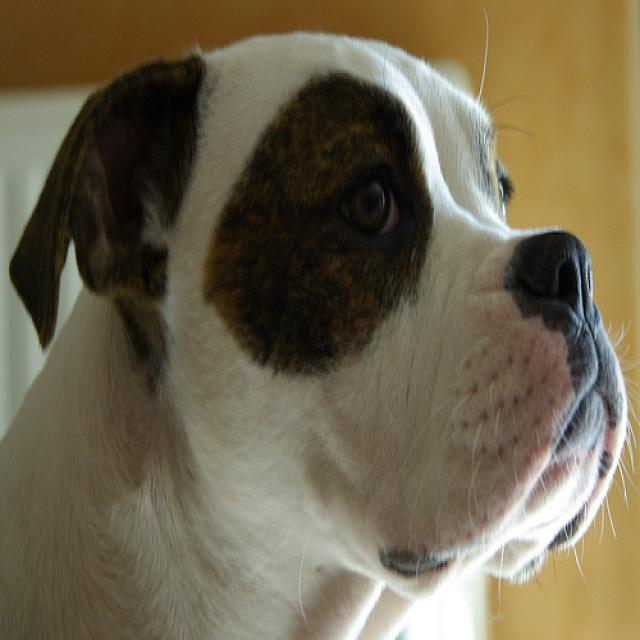dog-american_bulldog: (1, 29, 635, 636)
